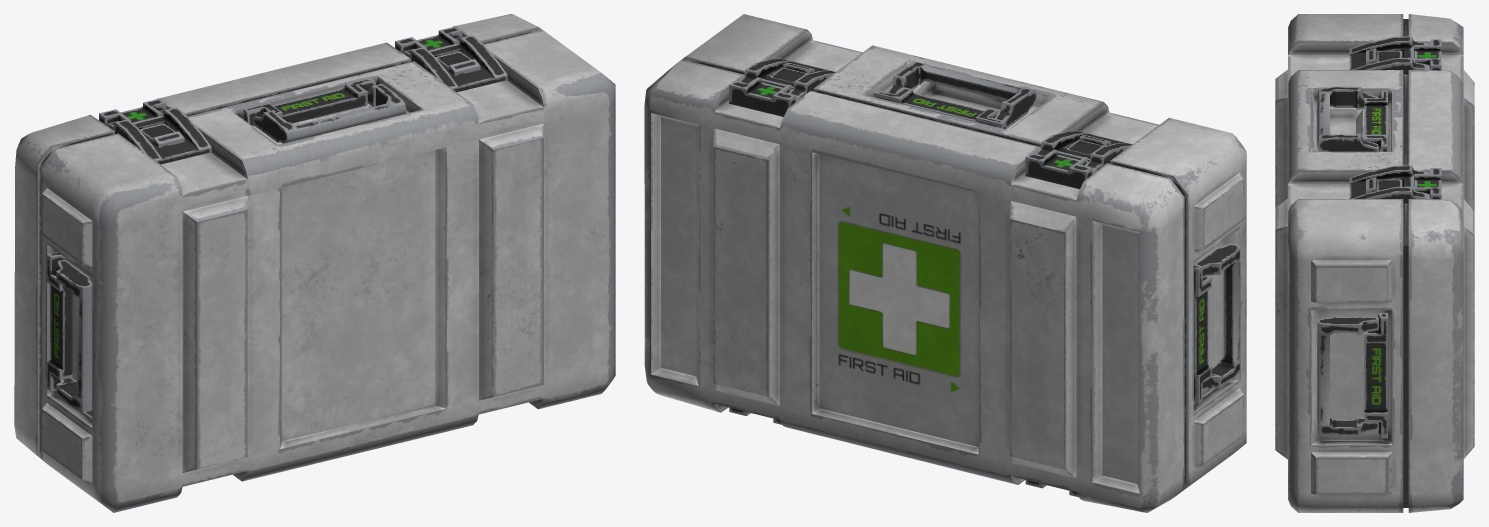
The model's file is kit.fbx.
The picture shows the model from 3 angles, left to right: view 1: azimuth 30°, elevation 25°; view 2: azimuth 150°, elevation 25°; view 3: azimuth 270°, elevation 25°; orthographic projection. The views are drawn at different scales.
Visible parts, largest first — view 1: Box028; view 2: Box028; view 3: Box028.
Part boxes in pixels (box(x1,y1,x2,y2)): Box028: box(14, 14, 615, 512); Box028: box(644, 14, 1246, 512); Box028: box(1275, 14, 1474, 512).
Size of the model in its own units: 30.32 by 18.23 by 11.
